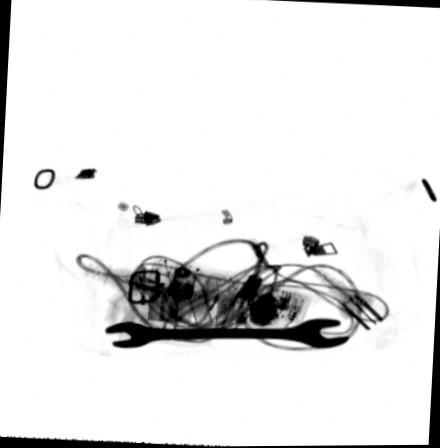Wrench: (103, 318, 353, 351)
